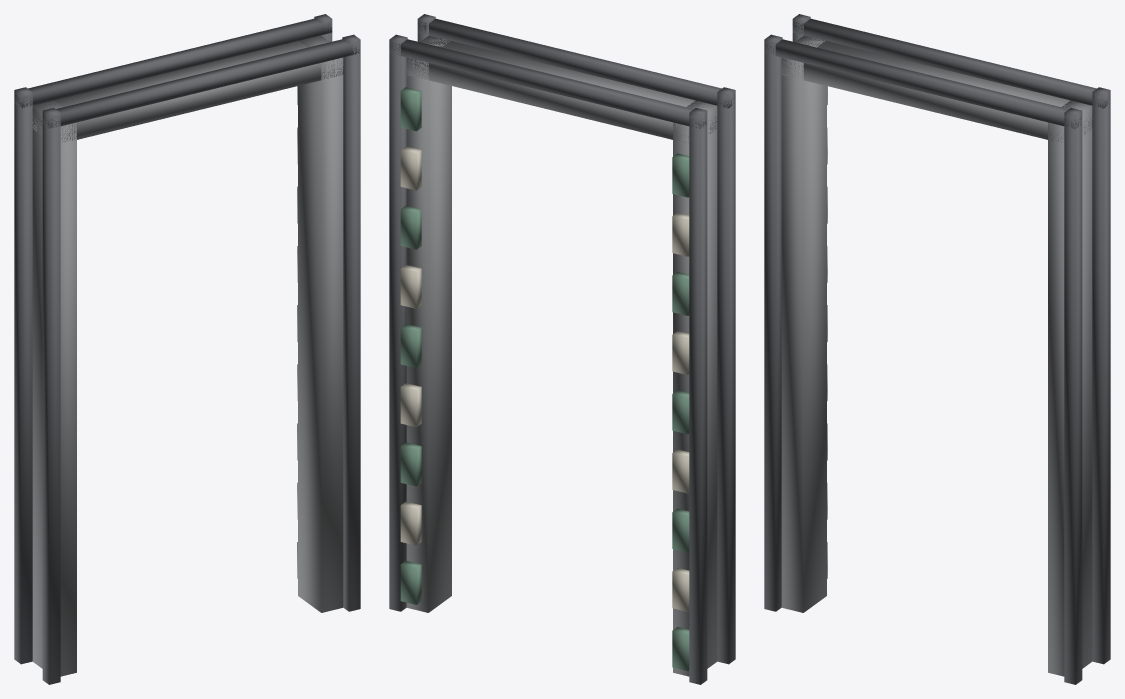
File: doorway_tile_return_w96_h200_d16.glb
The picture shows the model from 3 angles, left to right: view 1: azimuth 30°, elevation 25°; view 2: azimuth 150°, elevation 25°; view 3: azimuth 330°, elevation 25°; orthographic projection.
Visible parts, largest first — view 1: world; view 2: world; view 3: world.
Part boxes in pixels (x1,y1,x2,y2): world: (14, 14, 360, 684); world: (389, 14, 735, 684); world: (764, 14, 1110, 684).
Bounding box in the file's own units: 1.22 × 2.14 × 0.2407.
